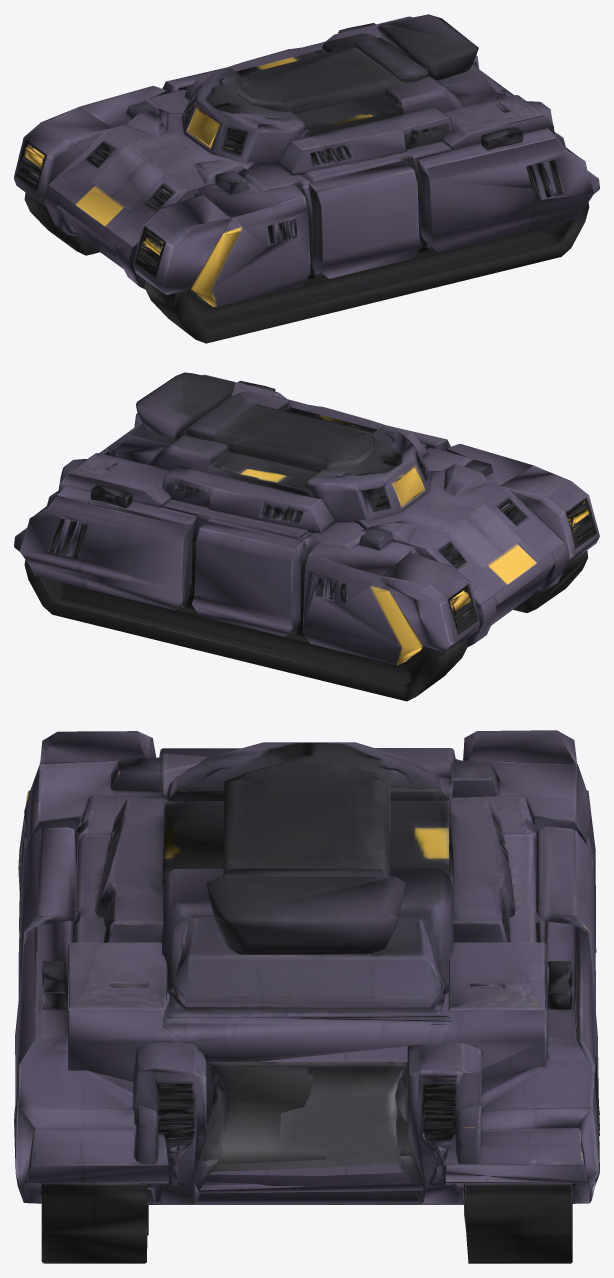
Rendered from body.glb.
3 views of the same model, one above another, from view 1: azimuth 30°, elevation 25°; view 2: azimuth 150°, elevation 25°; view 3: azimuth 270°, elevation 25° (orthographic). The views are drawn at different scales.
Parts seen in each view (by area): view 1: Body; view 2: Body; view 3: Body.
Part boxes in pixels (x1,y1,x2,y2): Body: [14, 14, 599, 343]; Body: [14, 372, 599, 701]; Body: [14, 730, 599, 1263].
Size of the model in its own units: 0.7974 by 0.3164 by 0.5254.
1 material, 1 textured.
